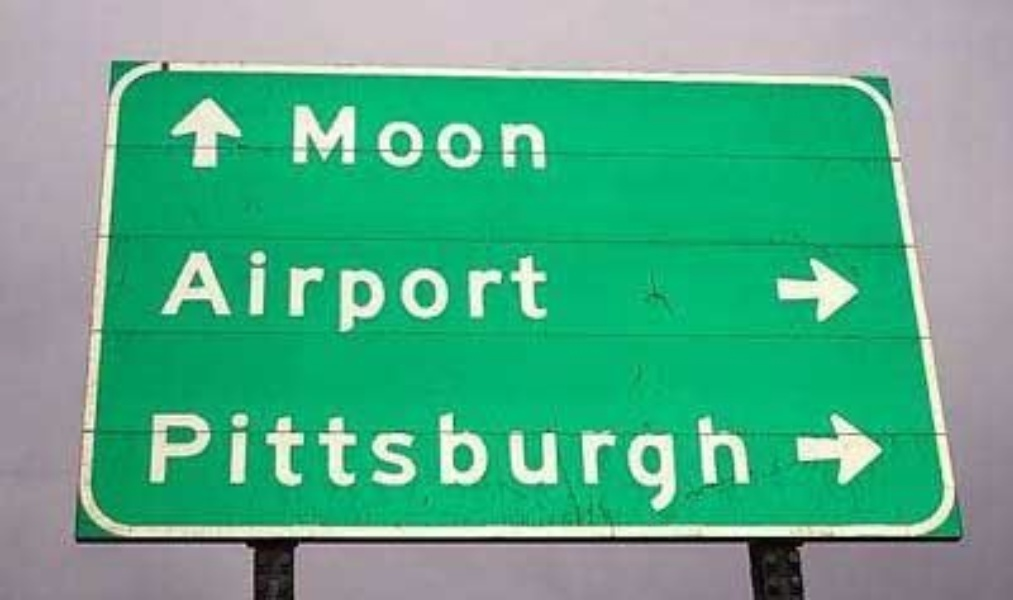text: (161, 406, 176, 519), (177, 406, 192, 519), (193, 406, 208, 519), (209, 406, 224, 519), (225, 406, 240, 519), (241, 406, 256, 519), (257, 406, 272, 519), (273, 406, 288, 519), (289, 406, 304, 519), (305, 406, 320, 519), (321, 406, 336, 519), (337, 406, 352, 519), (353, 406, 368, 519), (369, 406, 384, 519), (385, 406, 400, 519), (401, 406, 416, 519), (417, 406, 432, 519), (433, 406, 448, 519), (449, 406, 464, 519), (465, 406, 480, 519), (481, 406, 496, 519), (497, 406, 512, 519), (513, 406, 528, 519), (529, 406, 544, 519), (545, 406, 560, 519), (561, 406, 576, 519), (577, 406, 592, 519), (593, 406, 608, 519), (609, 406, 624, 519), (625, 406, 640, 519), (641, 406, 656, 519), (657, 406, 672, 519), (673, 406, 688, 519), (689, 406, 704, 519), (705, 406, 720, 519), (721, 406, 736, 519), (737, 406, 752, 519), (193, 246, 208, 335), (209, 246, 224, 335), (225, 246, 240, 335), (241, 246, 256, 335), (257, 246, 272, 335), (273, 246, 288, 335), (289, 246, 304, 335), (305, 246, 320, 335), (321, 246, 336, 335), (337, 246, 352, 335), (353, 246, 368, 335), (369, 246, 384, 335), (385, 246, 400, 335), (401, 246, 416, 335), (417, 246, 432, 335), (433, 246, 448, 335), (449, 246, 464, 335), (465, 246, 480, 335), (481, 246, 496, 335), (497, 246, 512, 335), (513, 246, 528, 335), (529, 246, 544, 335), (289, 99, 304, 173), (305, 99, 320, 173), (321, 99, 336, 173), (337, 99, 352, 173), (353, 99, 368, 173), (369, 99, 384, 173), (385, 99, 400, 173), (401, 99, 416, 173), (417, 99, 432, 173), (433, 99, 448, 173), (449, 99, 464, 173), (465, 99, 480, 173), (481, 99, 496, 173), (497, 99, 512, 173), (513, 99, 528, 173), (529, 99, 544, 173), (152, 406, 160, 519), (545, 246, 555, 335), (183, 246, 192, 335), (753, 406, 758, 519), (545, 99, 550, 173)
